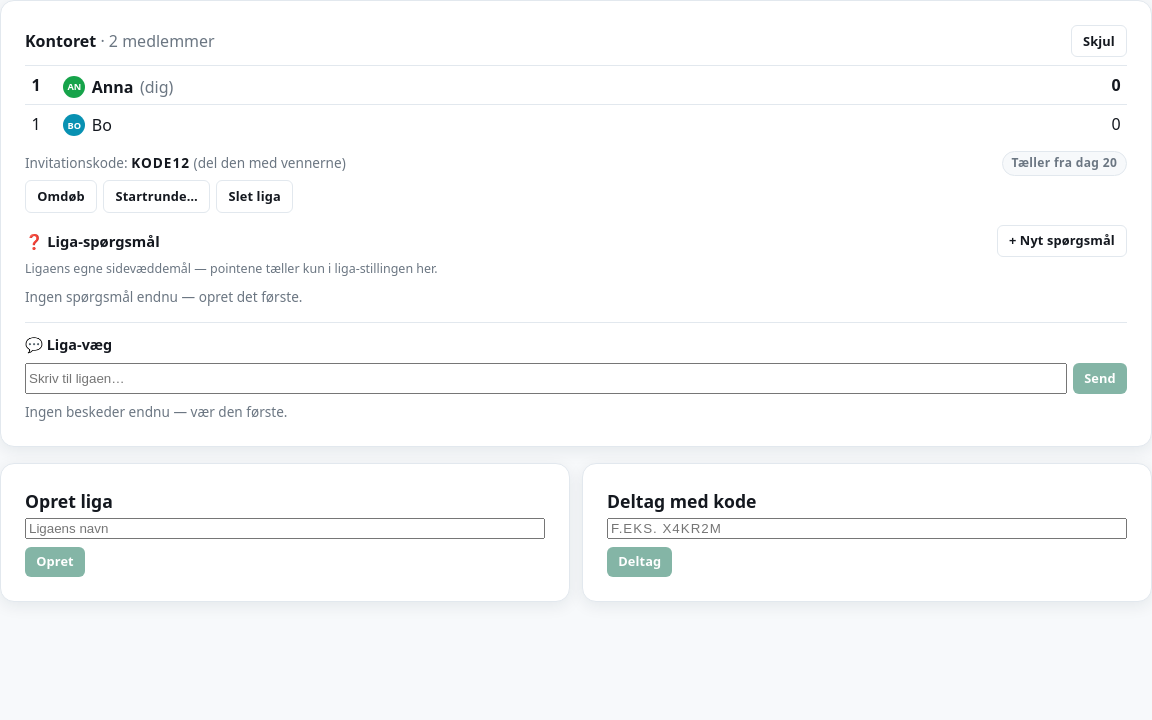
fasekalender: liga-kortet og stillingen siger «dag» › liga-kortet: «Tæller fra dag 20», og valget hedder «dag»
Expected: the text with test id "liga-startrunde" reads "Tæller fra dag 20", [1002,151,1127,176]
Expected: the element with test id "liga-startrunde" does not show "runde"
Step 1. Click the button "Startrunde…" → x=157, y=196, box [103,180,210,213]
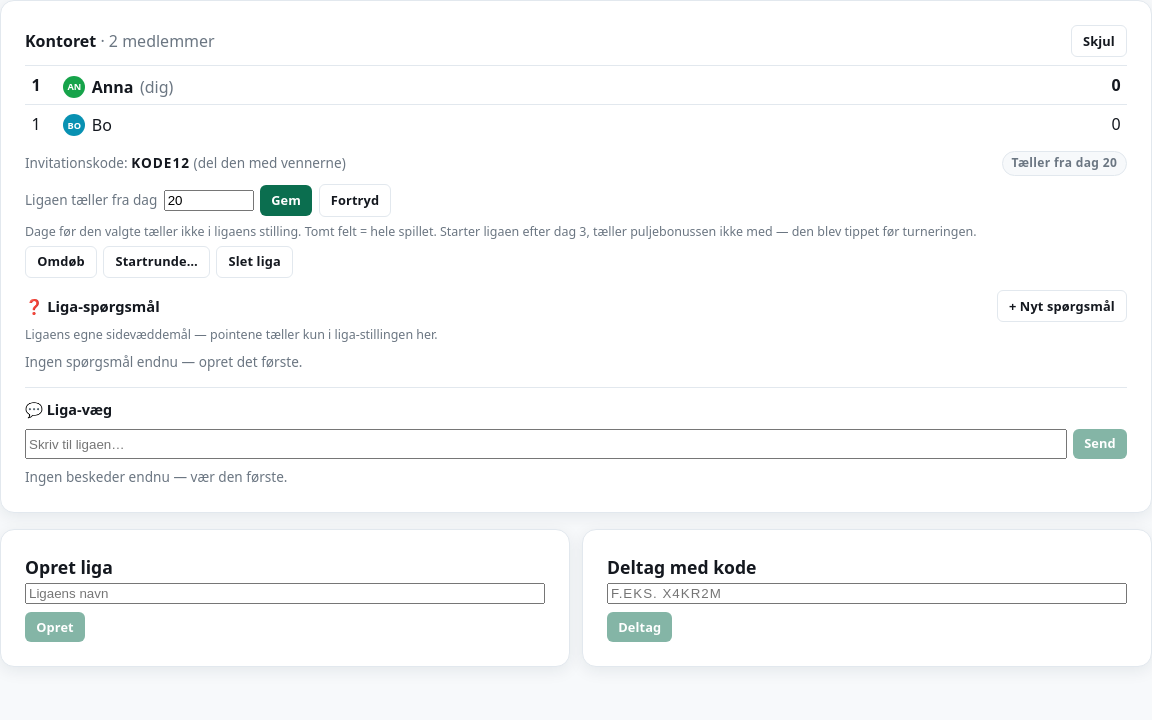
Expected: the number field labelled "Ligaen tæller fra dag" is shown, [164,190,254,211]
Expected: the text "Dage før den valgte tæller ikke i ligaens stilling" is shown, [25,223,1127,242]
Expected: the text "Starter ligaen efter dag 3, tæller puljebonussen ikke med — den blev tippet før turneringen." is shown, [25,223,1127,242]
